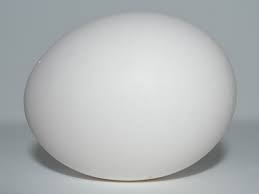eggs: (24, 11, 229, 178)
